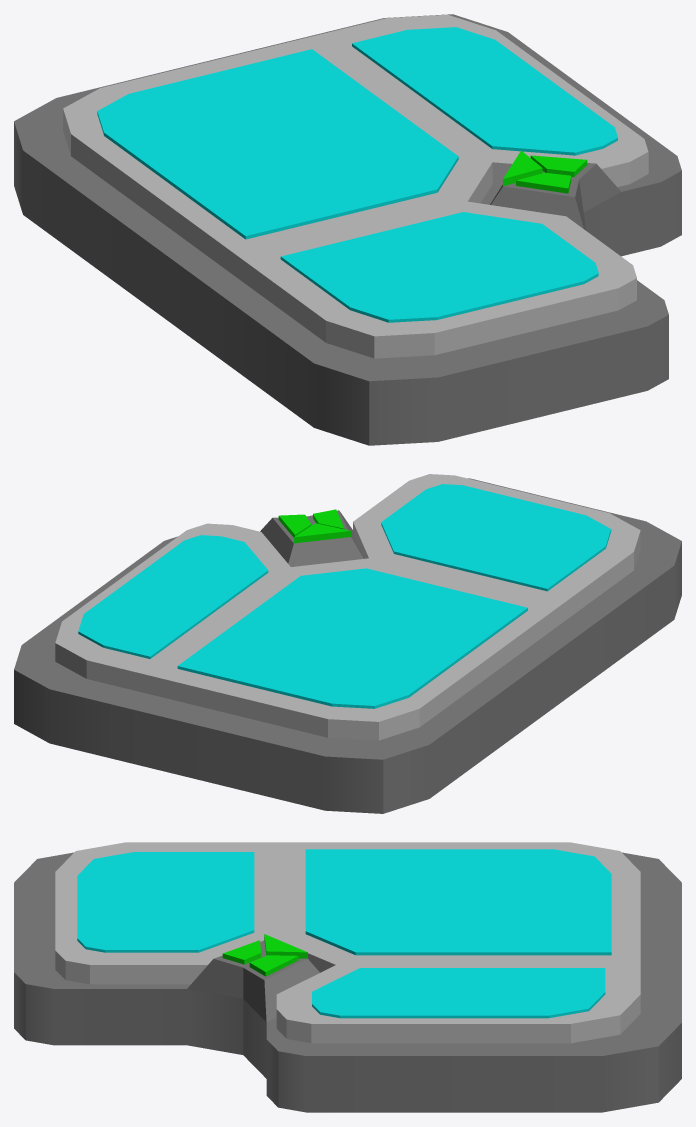
The model's file is Data Pad.fbx.
The picture shows the model from 3 angles, top to bottom: view 1: azimuth 30°, elevation 25°; view 2: azimuth 150°, elevation 25°; view 3: azimuth 270°, elevation 25°; orthographic projection. The views are drawn at different scales.
Parts seen in each view (by area): view 1: Data_Pad; view 2: Data_Pad; view 3: Data_Pad.
Part boxes in pixels (bbox=[...]): Data_Pad: bbox=[14, 14, 681, 445]; Data_Pad: bbox=[14, 474, 681, 813]; Data_Pad: bbox=[14, 842, 681, 1112].
Bounding box in the file's own units: 0.7334 × 0.1551 × 1.
